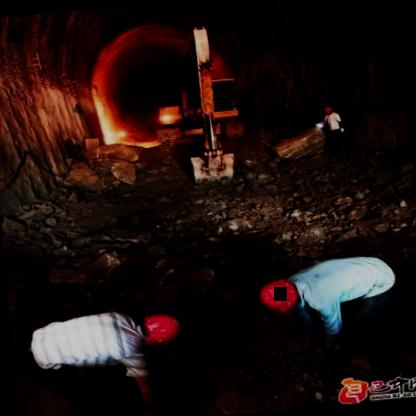helmet: (258, 278, 303, 316), (139, 311, 182, 350), (318, 100, 336, 118)
